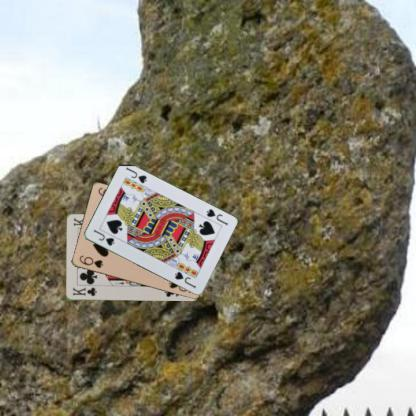6s: (76, 253, 104, 269)
Js: (90, 226, 116, 247), (204, 206, 229, 226)
Kc: (70, 285, 98, 297)
